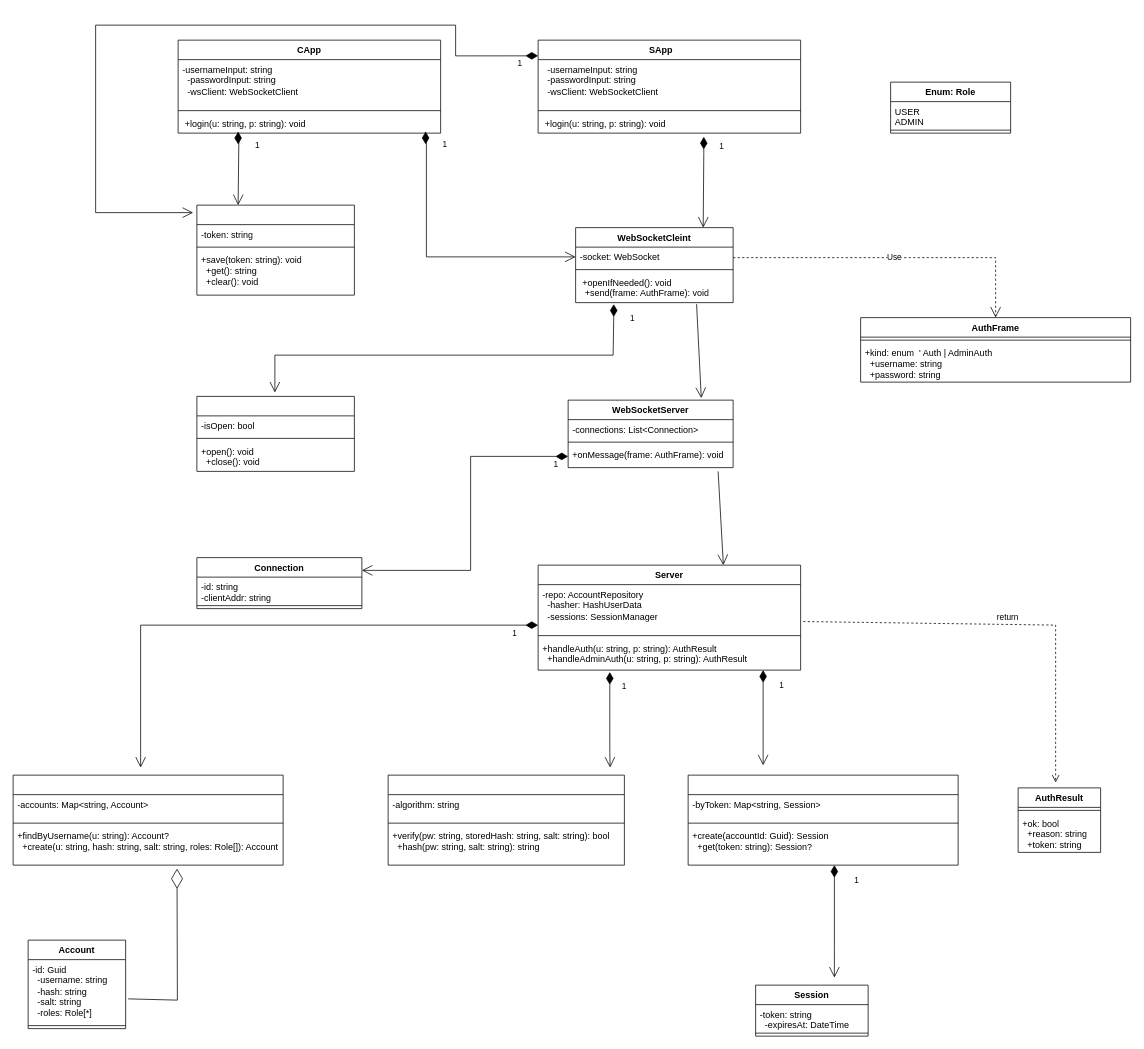
This 1144x1049 diagram has some shape labels left out. Each missing label, with the box of its shape:
AccountRepository: (12, 774, 283, 865)
HashUserData: (387, 774, 624, 865)
SessionManager: (687, 774, 958, 865)
TokenStore: (196, 204, 354, 295)
WebSocket: (196, 396, 354, 471)
